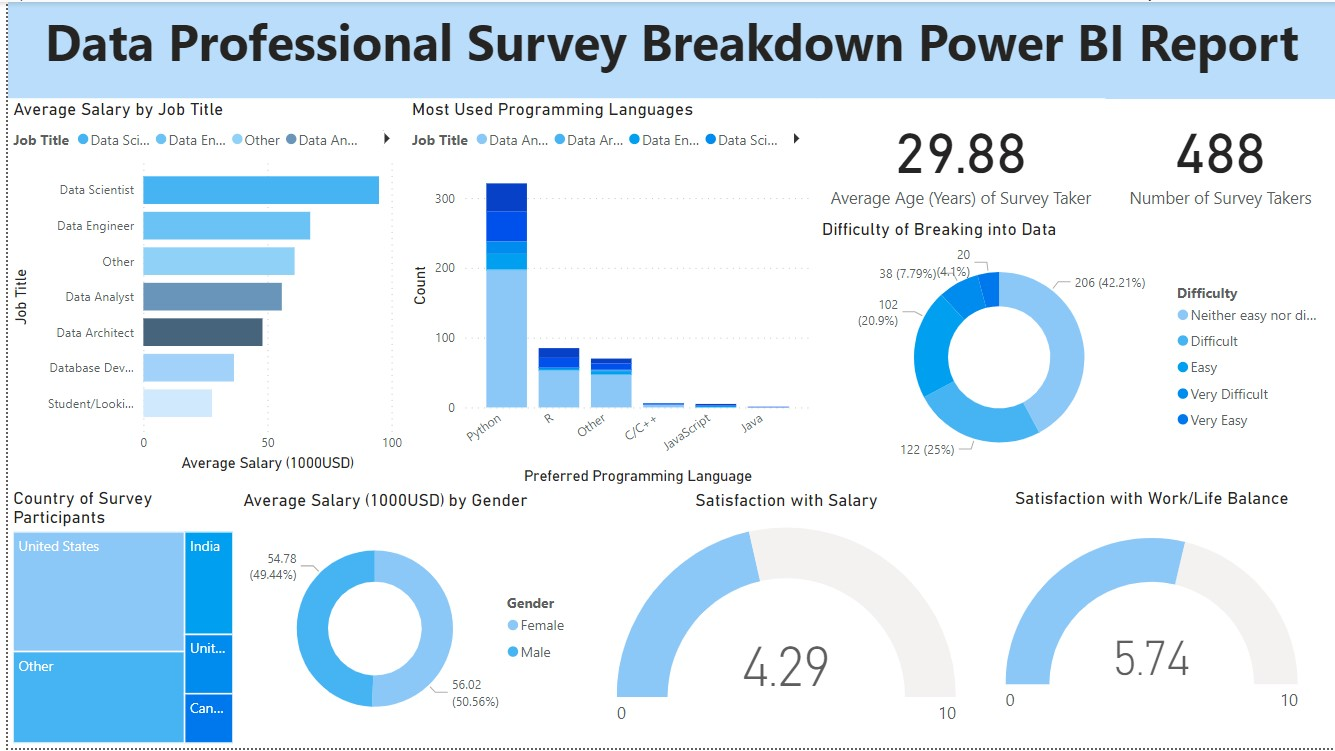

What the dashboard file says about the page in this screenshot:
{"tool":"powerbi","page":{"name":"Dashboard","canvas":[1280,720],"ordinal":0},"visuals":[{"type":"card","fields":{"Values":["CountNonNull(Data Professional Survey.Time Spent)"]},"box":[1058.4,93.2,222.1,115.2],"z":0},{"type":"textbox","box":[0,0,1280.6,93.2],"z":1000},{"type":"card","fields":{"Values":["Avg(Data Professional Survey.Q10 - Current Age)"]},"box":[780.1,93.2,278.3,115.2],"z":2000},{"type":"barChart","title":"Average Salary by Job Title","fields":{"Category":["Data Professional Survey.Q1 - Which Title Best Fits your Current Role?.1"],"Y":["Avg(Data Professional Survey.Average Salary (USD))"],"Series":["Data Professional Survey.Q1 - Which Title Best Fits your Current Role?.1"]},"box":[0,93.2,385.3,364.7],"z":3000},{"type":"columnChart","title":"Most Used Programming Languages","fields":{"Category":["Data Professional Survey.Q5 - Favorite Programming Language.1"],"Y":["CountNonNull(Data Professional Survey.Time Spent)"],"Series":["Data Professional Survey.Q1 - Which Title Best Fits your Current Role?.1"]},"box":[385.3,93.2,394.9,377],"z":3001},{"type":"treemap","title":"Country of Survey Participants","fields":{"Group":["Data Professional Survey.Q11 - Which Country do you live in?.1"],"Values":["CountNonNull(Data Professional Survey.Q11 - Which Country do you live in?.1)"]},"box":[0,467.5,222.1,252.3],"z":3002},{"type":"gauge","title":"Satisfaction with Work/Life Balance","fields":{"Y":["Avg(Data Professional Survey.Q6 - How Happy are you in your Current Position with the following? (Work/Life Balance))"],"MaxValue":["Max(Data Professional Survey.Q6 - How Happy are you in your Current Position with the following? (Work/Life Balance))1"],"MinValue":["Min(Data Professional Survey.Q6 - How Happy are you in your Current Position with the following? (Work/Life Balance))"]},"box":[957,467.5,292,252.3],"z":3003},{"type":"gauge","title":"Satisfaction with Salary","fields":{"Y":["Avg(Data Professional Survey.Q6 - How Happy are you in your Current Position with the following? (Salary))"],"MinValue":["Min(Data Professional Survey.Q6 - How Happy are you in your Current Position with the following? (Salary))"],"MaxValue":["Max(Data Professional Survey.Q6 - How Happy are you in your Current Position with the following? (Salary))"]},"box":[582.7,470.3,337.3,249.5],"z":3004},{"type":"donutChart","title":"Average Salary (1000USD) by Gender","fields":{"Category":["Data Professional Survey.Q9 - Male/Female?"],"Y":["Avg(Data Professional Survey.Average Salary (USD))"]},"box":[222.1,470.3,330.4,249.5],"z":3005},{"type":"donutChart","title":"Difficulty of Breaking into Data","fields":{"Y":["CountNonNull(Data Professional Survey.Q7 - How difficult was it for you to break into Data?)"],"Category":["Data Professional Survey.Q7 - How difficult was it for you to break into Data?"]},"box":[780.1,208.4,500.4,249.5],"z":3006}]}

Visuals, with their boxes in screenshot pixels (x1, y1, x2, y2), scaled from the page's 1280x720 canvas onto the 1335x751 screenshot:
card - CountNonNull(Data Professional Survey.Time Spent): (x1=1104, y1=97, x2=1334, y2=217)
textbox: (x1=0, y1=0, x2=1334, y2=97)
card - Avg(Data Professional Survey.Q10 - Current Age): (x1=814, y1=97, x2=1104, y2=217)
"Average Salary by Job Title" barChart: (x1=0, y1=97, x2=402, y2=478)
"Most Used Programming Languages" columnChart: (x1=402, y1=97, x2=814, y2=490)
"Country of Survey Participants" treemap: (x1=0, y1=488, x2=232, y2=750)
"Satisfaction with Work/Life Balance" gauge: (x1=998, y1=488, x2=1303, y2=750)
"Satisfaction with Salary" gauge: (x1=608, y1=491, x2=960, y2=750)
"Average Salary (1000USD) by Gender" donutChart: (x1=232, y1=491, x2=576, y2=750)
"Difficulty of Breaking into Data" donutChart: (x1=814, y1=217, x2=1334, y2=478)
